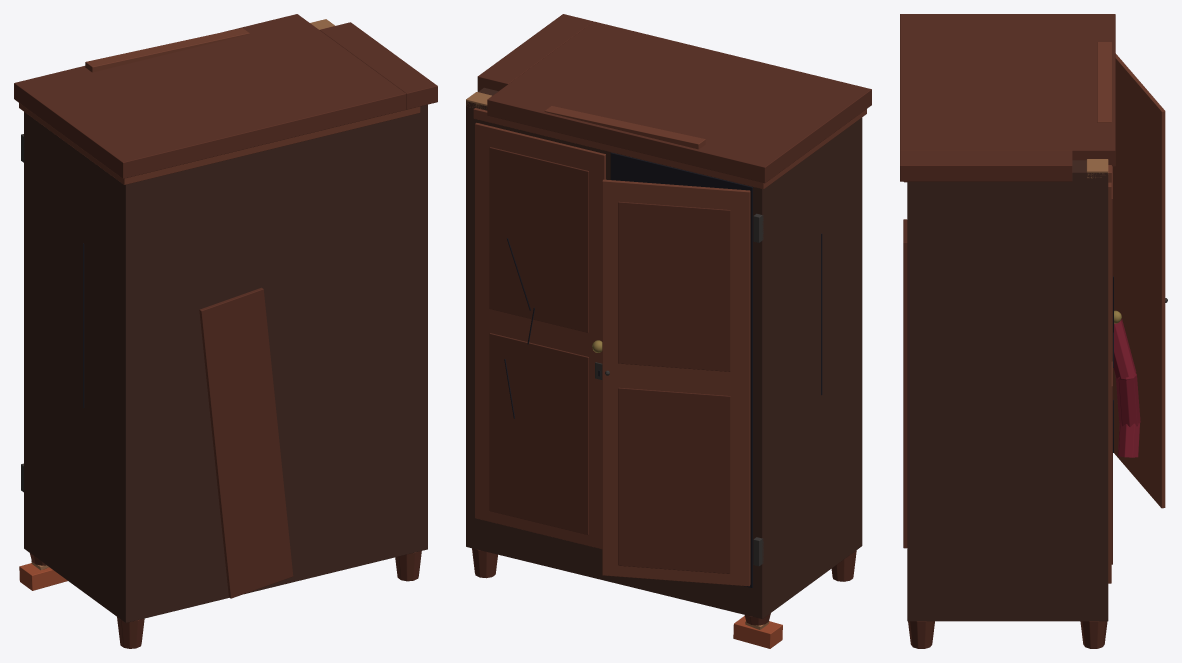
File: SM_PRP_Armario.fbx
3 views of the same model, side by side, from view 1: azimuth 30°, elevation 25°; view 2: azimuth 150°, elevation 25°; view 3: azimuth 270°, elevation 25° (orthographic).
Visible parts, largest first — view 1: SM_PRP_Armario; view 2: SM_PRP_Armario; view 3: SM_PRP_Armario.
Part boxes in pixels (bbox=[...]): SM_PRP_Armario: bbox=[14, 14, 437, 648]; SM_PRP_Armario: bbox=[466, 14, 871, 648]; SM_PRP_Armario: bbox=[900, 14, 1167, 648].
Size of the model in its own units: 1 by 1.52 by 0.746.
